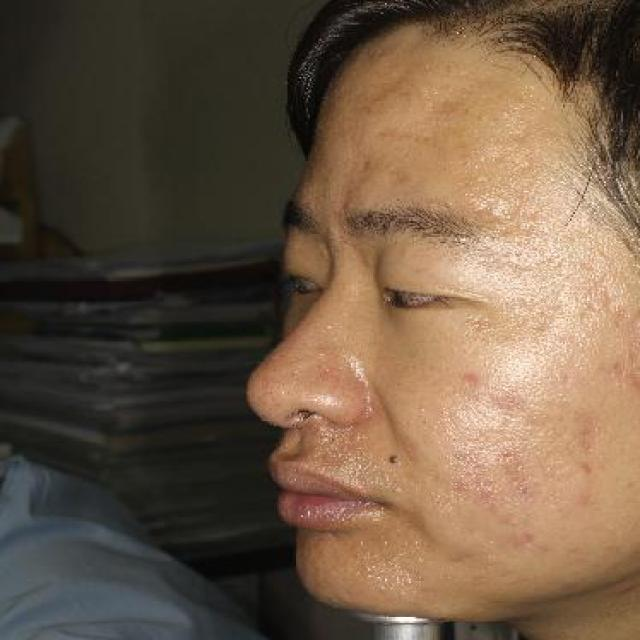dark spot: (486, 386, 529, 419), (571, 455, 599, 483), (512, 478, 540, 504)
